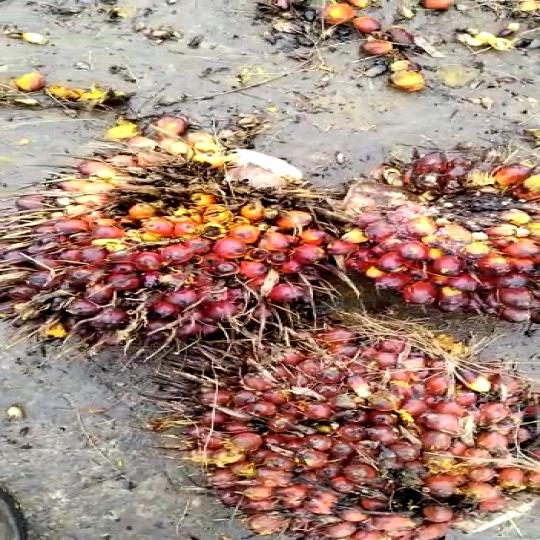masak: (189, 307, 540, 535), (7, 136, 343, 357)
